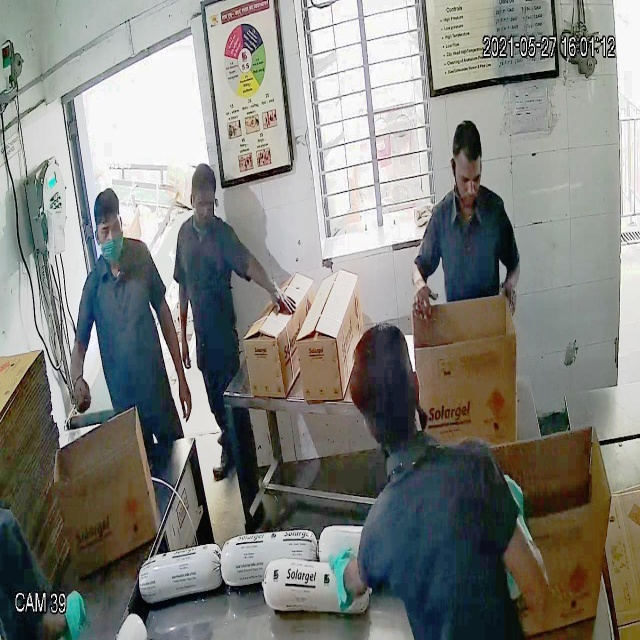Sin_gafas: (89, 213, 128, 244), (448, 164, 488, 191)
